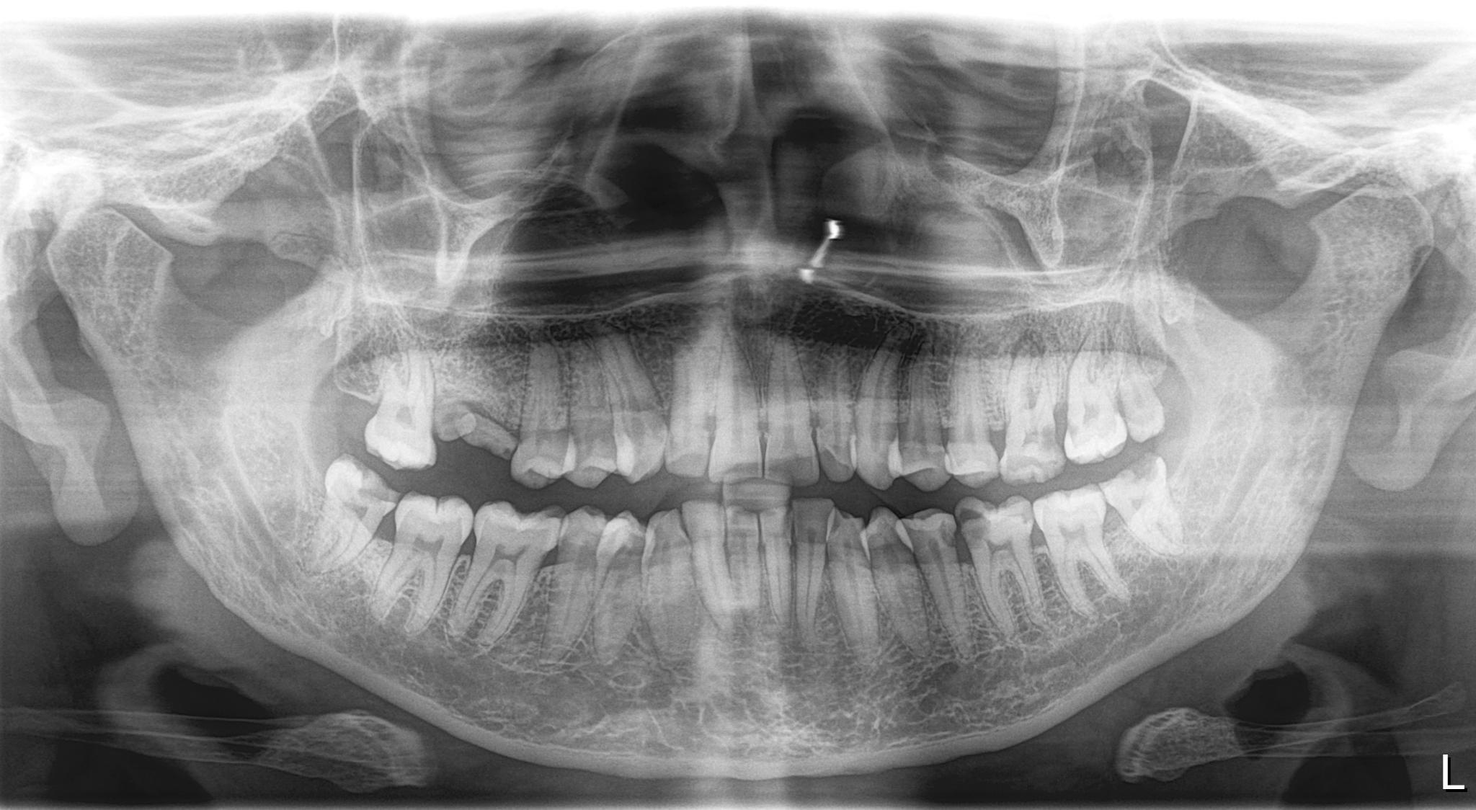Dental Caries: (919, 506, 1039, 566), (980, 411, 1067, 460), (1113, 459, 1174, 510), (351, 503, 420, 547)
Missing Tooth: (310, 335, 380, 448)
Retained Root: (438, 368, 515, 467)
